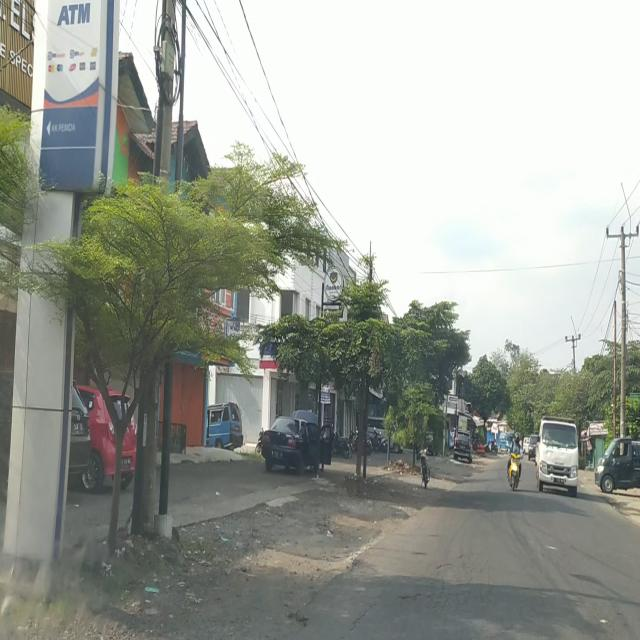Drain Hole: (403, 554, 493, 612)
